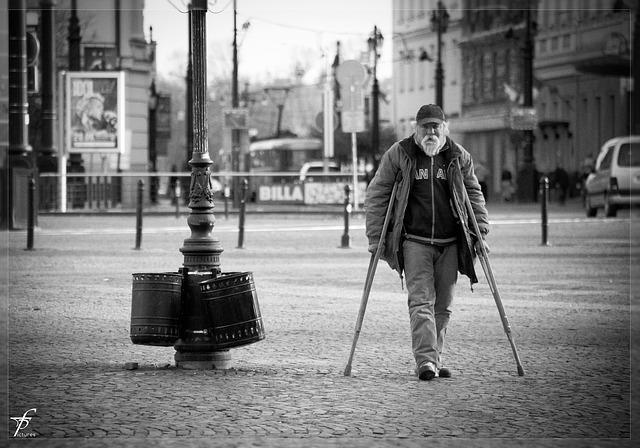crutches: (345, 104, 526, 381)
